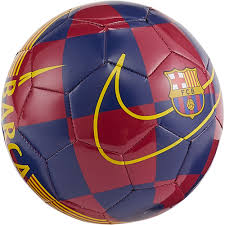top: (2, 1, 225, 221)
